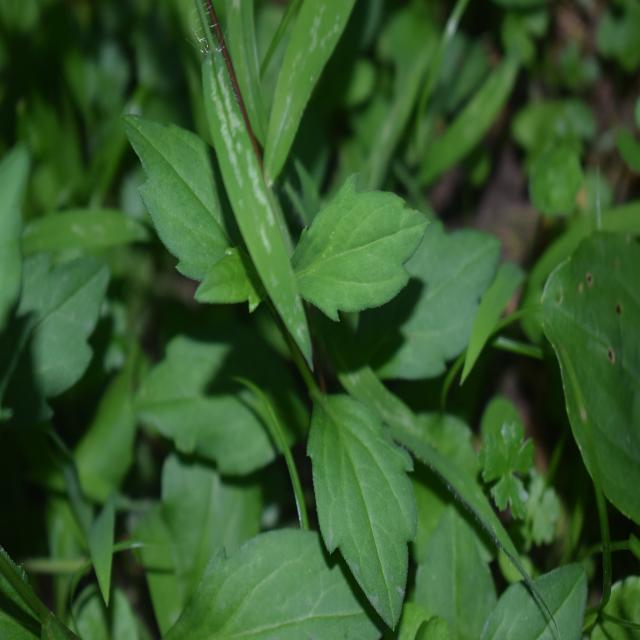Indian aster: (134, 143, 440, 586)
